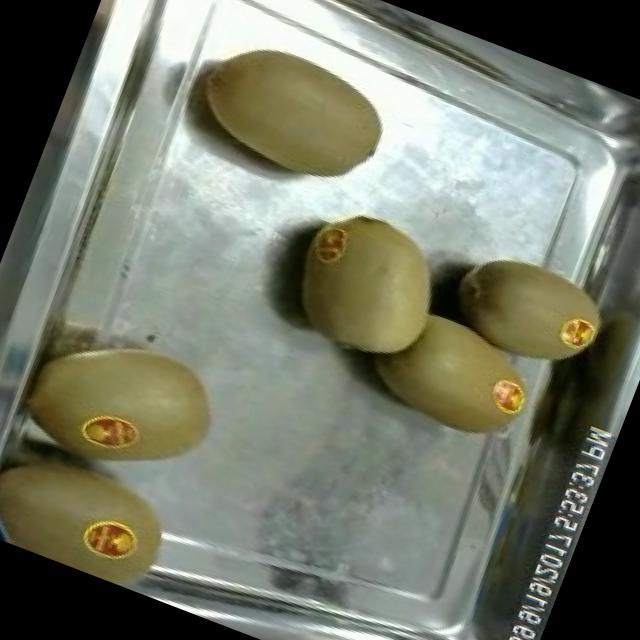Fruit: (8, 301, 244, 503), (177, 15, 405, 208), (266, 187, 468, 384), (347, 287, 560, 466), (0, 411, 193, 597), (431, 228, 627, 388)
